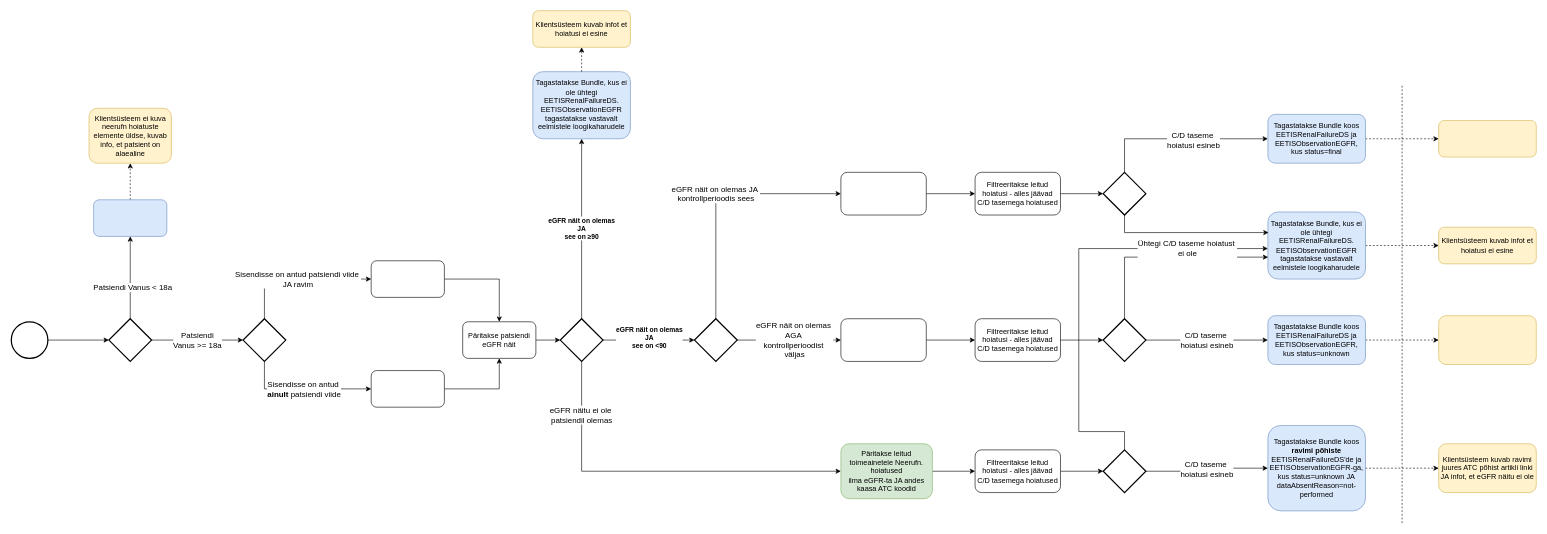
This 1547x534 diagram has some shape labels left out. The shapes that lost their labels are listed below. From the top down, each one's box as (x1, y1, x2, y2) in pixels, then its label:
(1438, 120, 1536, 157): Klientsüsteem kuvab hoiatusi ja patsiendi eGFR andmeid
(840, 172, 926, 215): Päritakse leitud toimeainetele Neerufn. hoiatused eGFR alusel
(93, 199, 167, 236): Hoiatusi ei tagastata / spetsiifline veakood MedIN-051
(371, 260, 444, 297): Leitakse toimeained sisendis olevast ravimist
(840, 318, 926, 361): Päritakse leitud toimeainetele Neerufn. hoiatused viimase eGFR alusel
(1438, 315, 1536, 364): Klientsüsteem kuvab hoiatusi JA infot, et näit on kontrollperioodist väljas
(371, 370, 444, 407): leitakse toimeained kehtivast ravimiskeemist
